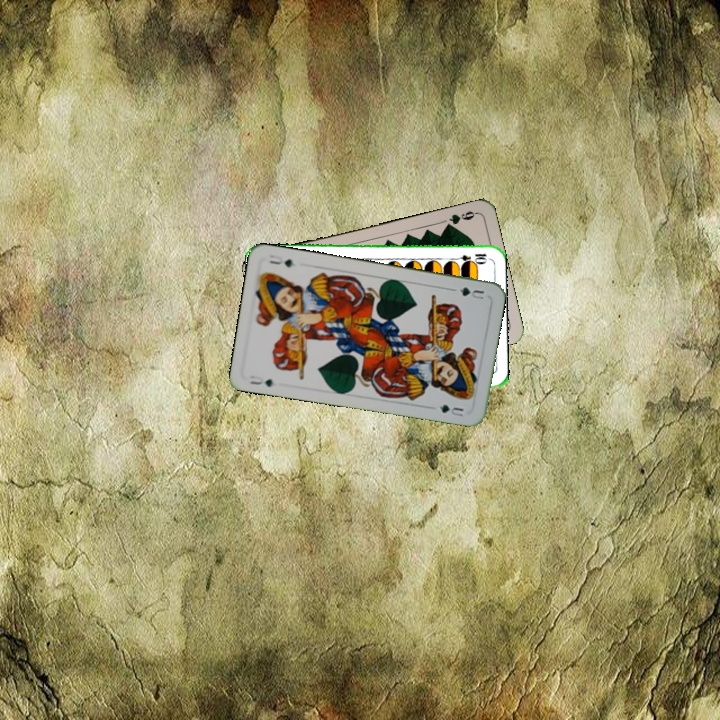E10: (449, 249, 489, 264)
G9: (441, 207, 479, 231)
GU: (449, 283, 487, 302), (245, 371, 275, 389)
